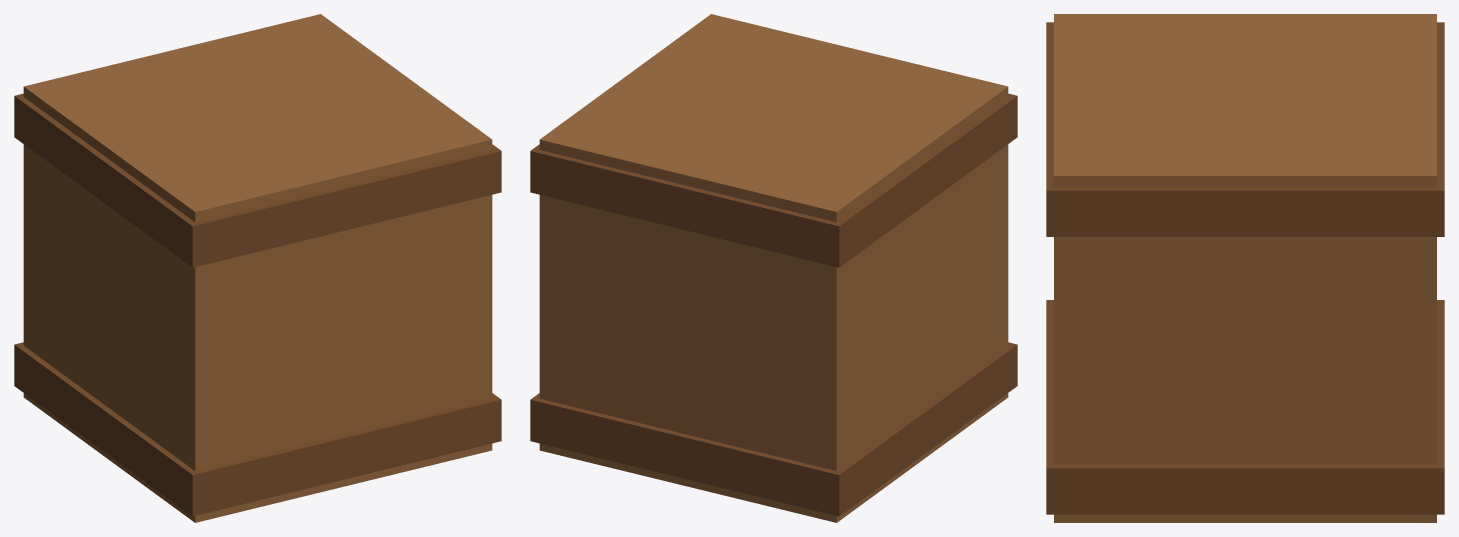
File: prop_crate.glb
3 views of the same model, side by side, from view 1: azimuth 30°, elevation 25°; view 2: azimuth 150°, elevation 25°; view 3: azimuth 270°, elevation 25° (orthographic). The views are drawn at different scales.
Parts seen in each view (by area): view 1: crate, plank_dark; view 2: crate, plank_dark; view 3: crate, plank_dark.
Boxes of the visible parts, box(x1,y1,x2,y2) form: crate: box(23, 14, 492, 522); plank_dark: box(14, 93, 501, 516); crate: box(539, 14, 1008, 522); plank_dark: box(530, 93, 1017, 516); crate: box(1054, 14, 1436, 522); plank_dark: box(1046, 22, 1444, 514).
Bounding box in the file's own units: 0.312 × 0.3 × 0.312.
